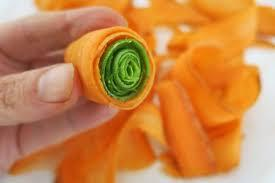Organic: (3, 1, 275, 183)
